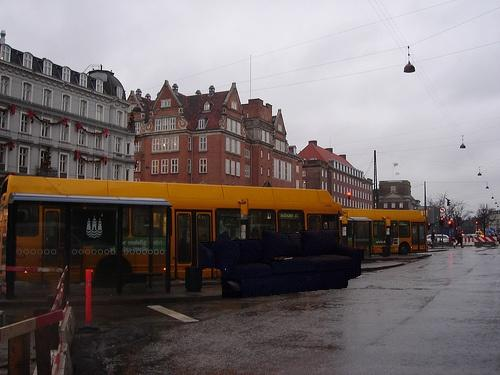tampered: (199, 230, 364, 298)
